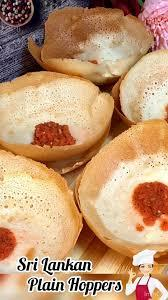Hoppers: (3, 5, 161, 253)
Lunu sambol: (130, 175, 168, 233), (26, 118, 82, 156)
